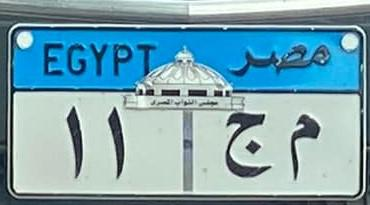1: (48, 104, 91, 193), (104, 100, 133, 188)
ج: (216, 106, 273, 182)
م: (285, 100, 328, 187)
